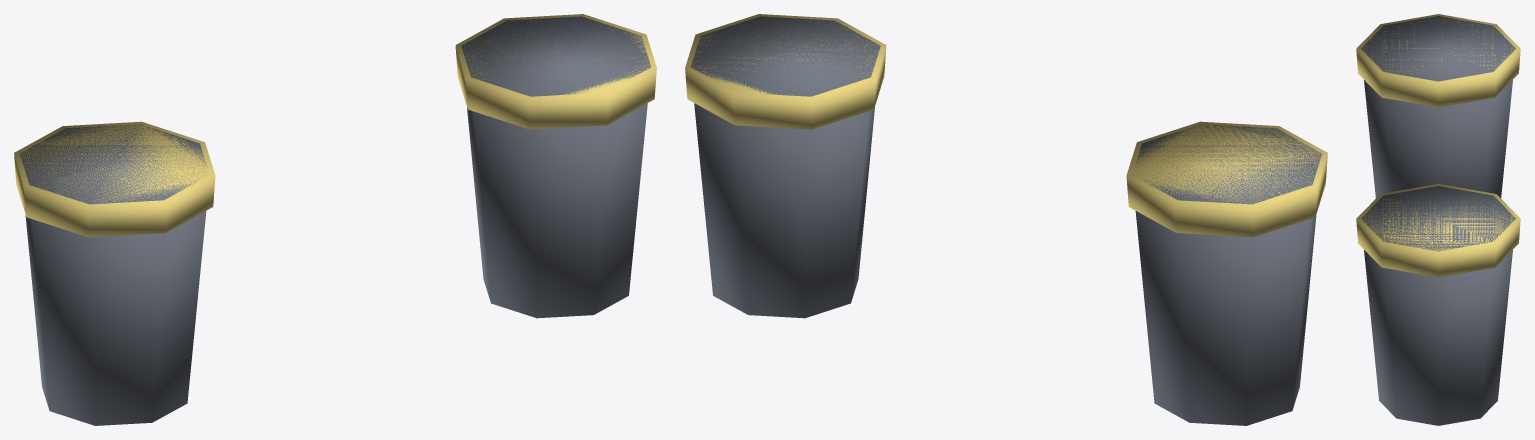
The model's file is dragon_gloves.glb.
3 views of the same model, side by side, from view 1: azimuth 30°, elevation 25°; view 2: azimuth 150°, elevation 25°; view 3: azimuth 270°, elevation 25° (orthographic). The views are drawn at different scales.
Parts seen in each view (by area): view 1: Gauntlet_1, Gauntlet_-1, GauntletTrim_-1, GauntletTrim_1; view 2: Gauntlet_1, Gauntlet_-1, GauntletTrim_-1, GauntletTrim_1; view 3: Gauntlet_1, Gauntlet_-1, GauntletTrim_1, GauntletTrim_-1.
Boxes of the visible parts, x1,y1,x2,y2 form: Gauntlet_1: (461, 16, 650, 318); Gauntlet_-1: (20, 124, 207, 425); GauntletTrim_-1: (14, 121, 215, 237); GauntletTrim_1: (455, 14, 656, 129); Gauntlet_1: (691, 16, 880, 318); Gauntlet_-1: (1134, 124, 1322, 425); GauntletTrim_-1: (1126, 121, 1327, 237); GauntletTrim_1: (685, 14, 886, 129); Gauntlet_1: (1361, 186, 1515, 425); Gauntlet_-1: (1361, 16, 1515, 197); GauntletTrim_1: (1356, 184, 1520, 277); GauntletTrim_-1: (1356, 14, 1520, 107).
Size of the model in its own units: 0.62 by 0.22 by 0.18.
